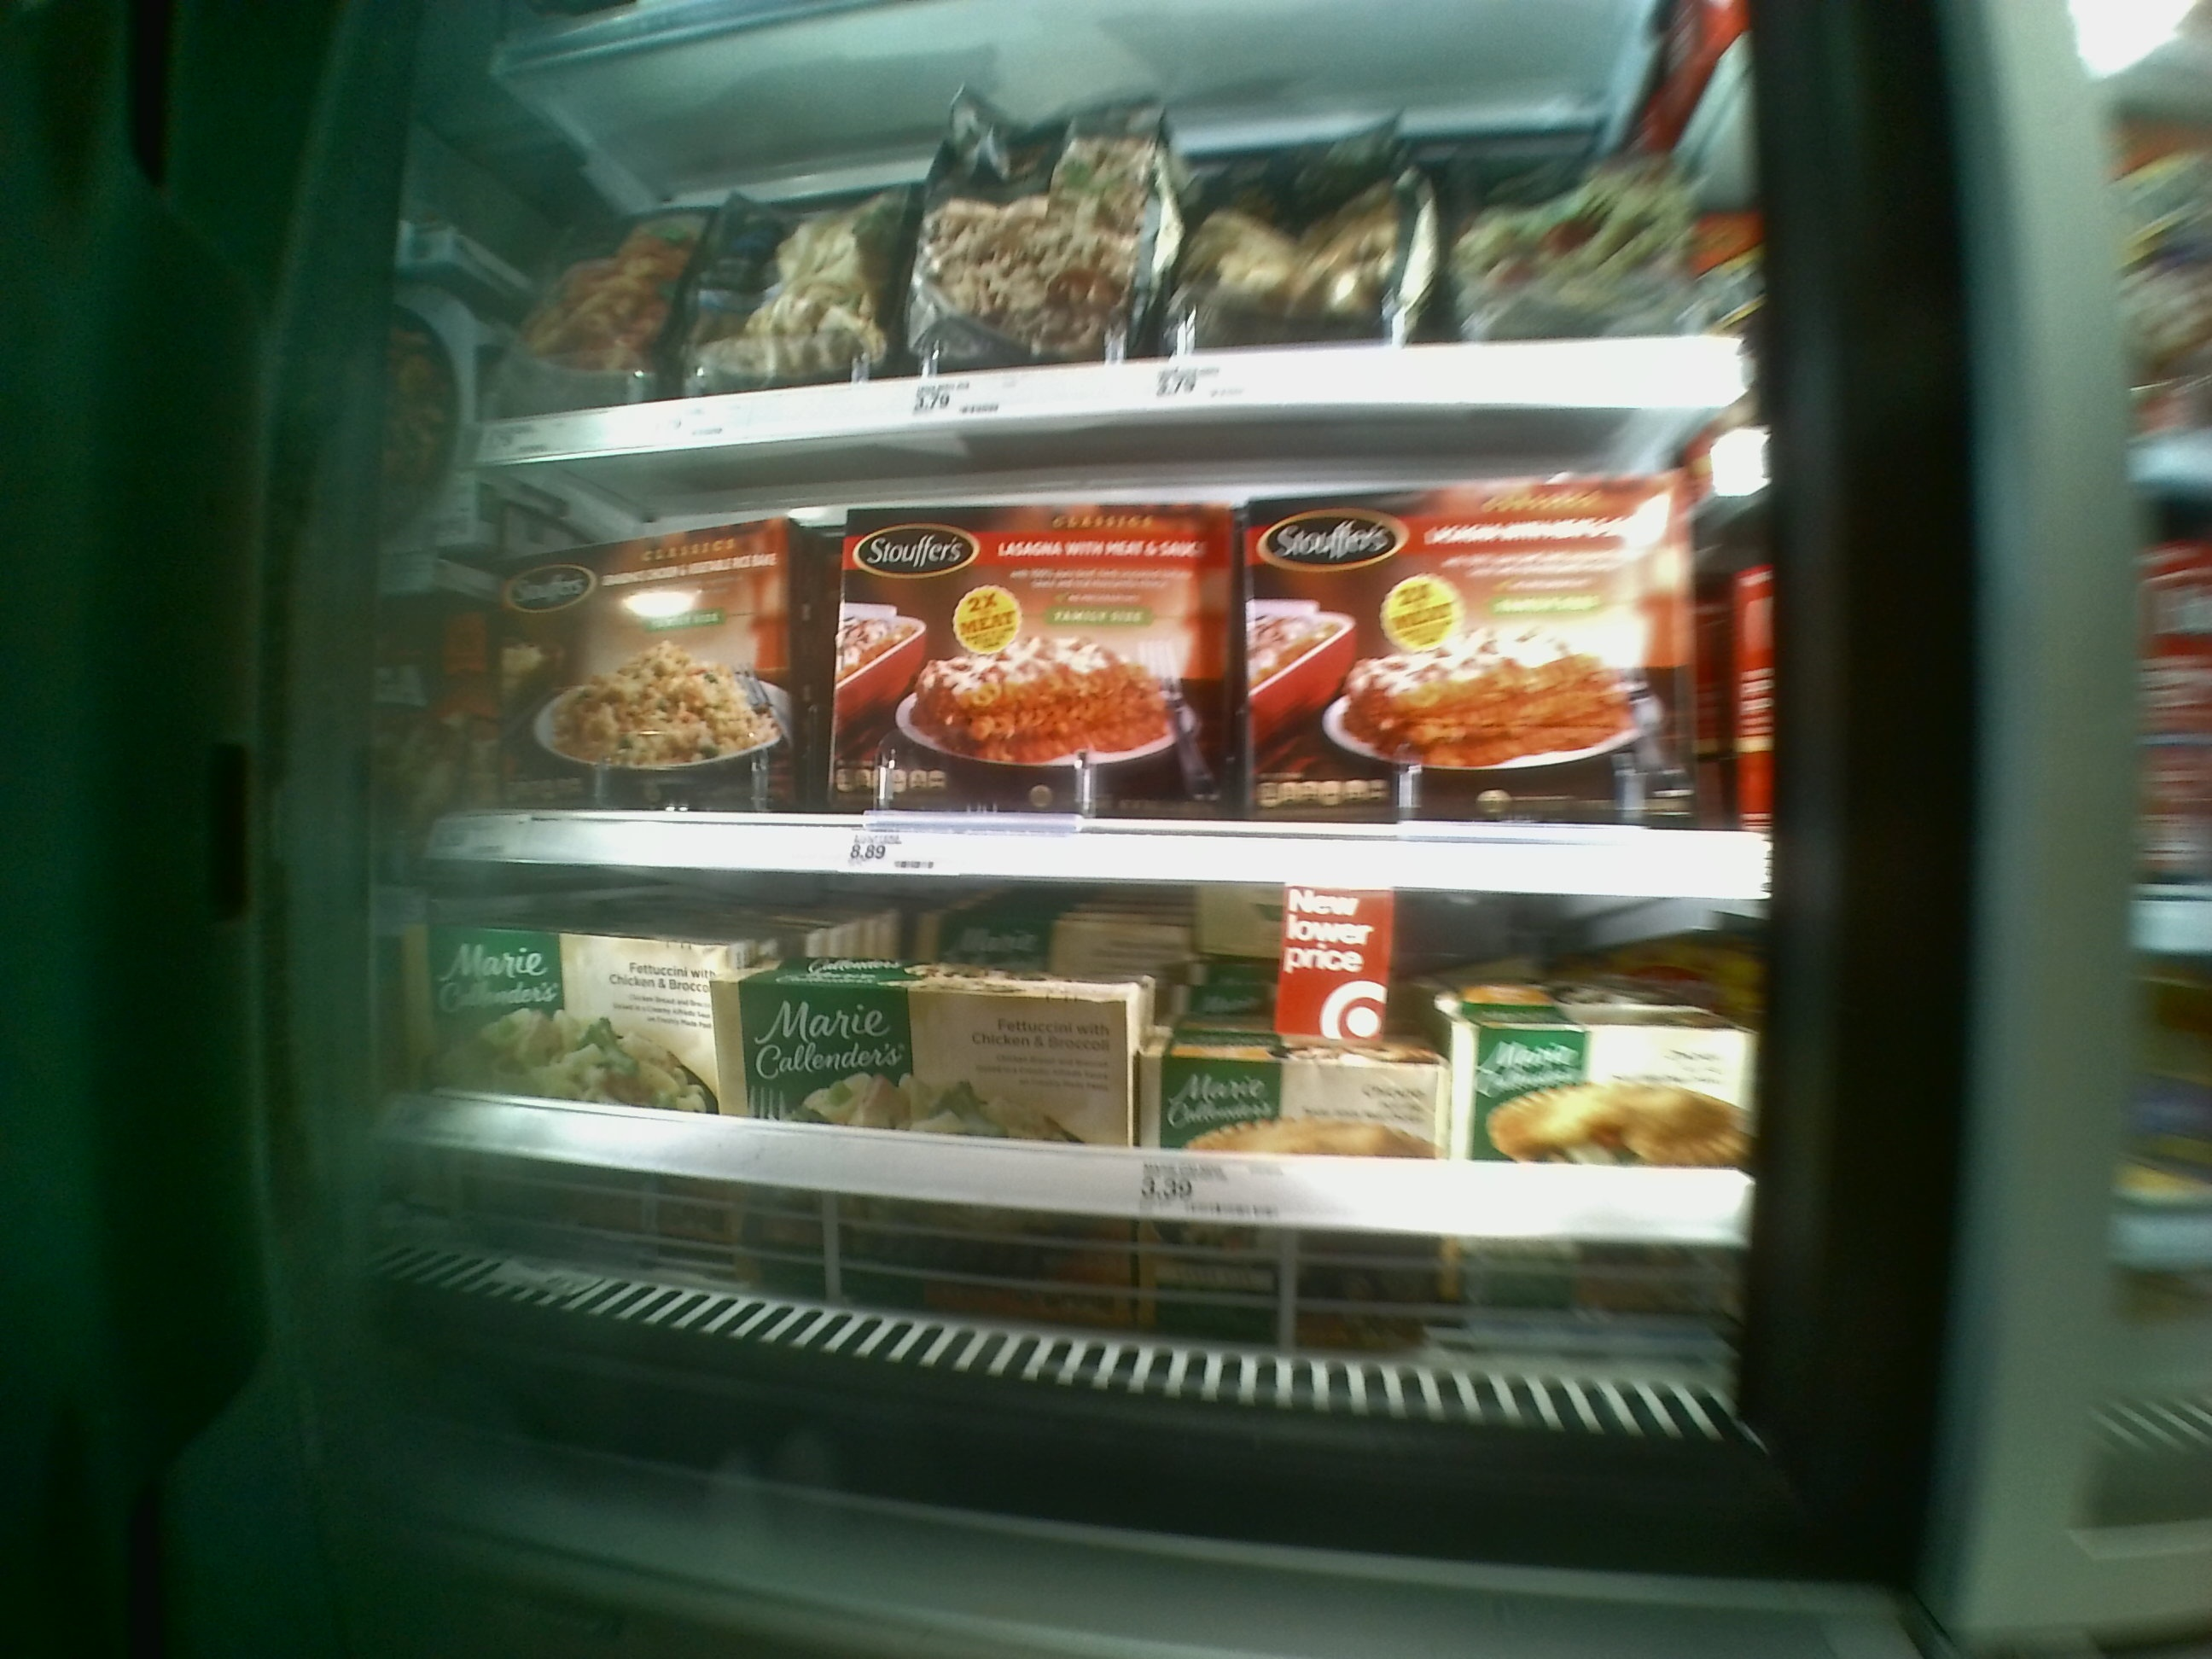shelf: (435, 863, 1740, 1333), (423, 476, 1789, 890)
